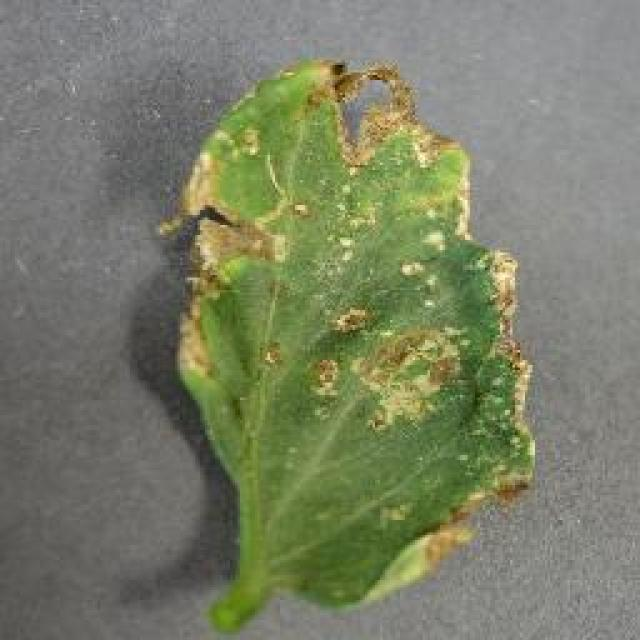Tomato___Bacterial_spot: (143, 55, 543, 638)
